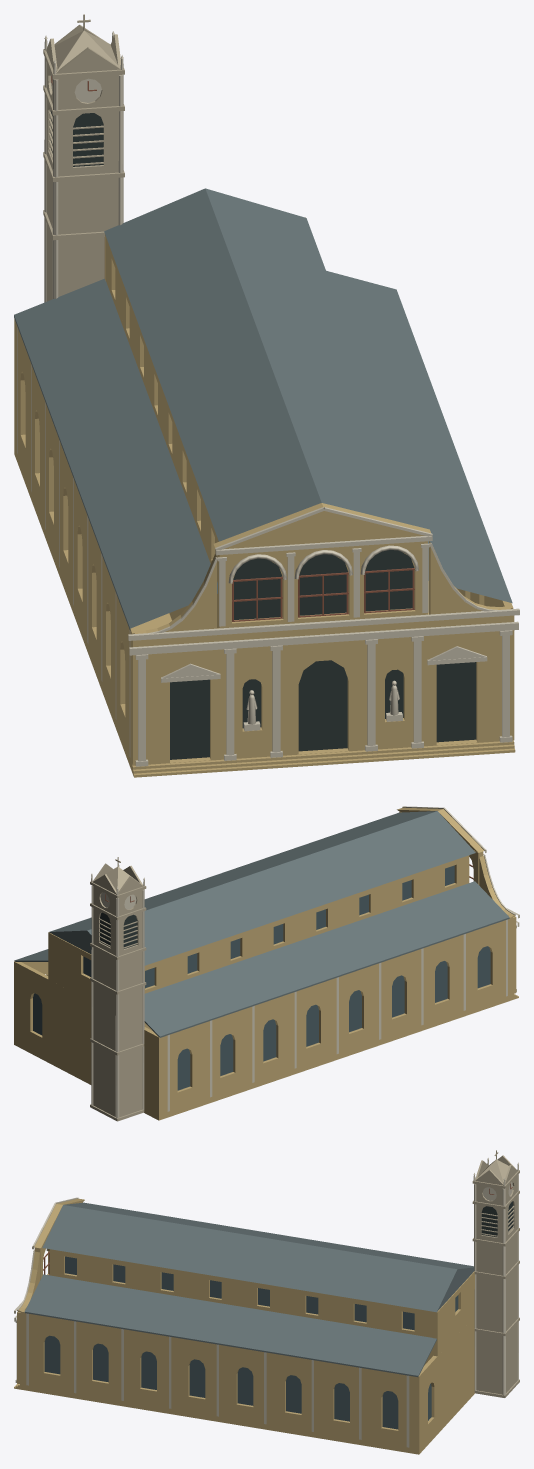
The model's file is eglise-saint-pierre-saint-paul-pointe-a-pitre-far.glb.
3 renders of one model, top to bottom at view 1: azimuth 30°, elevation 25°; view 2: azimuth 150°, elevation 25°; view 3: azimuth 270°, elevation 25°, orthographic. The views are drawn at different scales.
Visible parts, largest first — view 1: eglise-saint-pierre-saint-paul-pointe-a-pitre-0-roof, eglise-saint-pierre-saint-paul-pointe-a-pitre-0-plaster, eglise-saint-pierre-saint-paul-pointe-a-pitre-0-trim, eglise-saint-pierre-saint-paul-pointe-a-pitre-0-shadow, eglise-saint-pierre-saint-paul-pointe-a-pitre-0-metal, eglise-saint-pierre-saint-paul-pointe-a-pitre-0-wood; view 2: eglise-saint-pierre-saint-paul-pointe-a-pitre-0-plaster, eglise-saint-pierre-saint-paul-pointe-a-pitre-0-roof, eglise-saint-pierre-saint-paul-pointe-a-pitre-0-metal, eglise-saint-pierre-saint-paul-pointe-a-pitre-0-glass, eglise-saint-pierre-saint-paul-pointe-a-pitre-0-trim, eglise-saint-pierre-saint-paul-pointe-a-pitre-0-shadow; view 3: eglise-saint-pierre-saint-paul-pointe-a-pitre-0-plaster, eglise-saint-pierre-saint-paul-pointe-a-pitre-0-roof, eglise-saint-pierre-saint-paul-pointe-a-pitre-0-metal, eglise-saint-pierre-saint-paul-pointe-a-pitre-0-glass, eglise-saint-pierre-saint-paul-pointe-a-pitre-0-trim, eglise-saint-pierre-saint-paul-pointe-a-pitre-0-shadow.
Boxes of the visible parts, left/top/right/bottom form: eglise-saint-pierre-saint-paul-pointe-a-pitre-0-roof: left=14, top=188, right=512, bottom=630; eglise-saint-pierre-saint-paul-pointe-a-pitre-0-plaster: left=14, top=217, right=515, bottom=777; eglise-saint-pierre-saint-paul-pointe-a-pitre-0-trim: left=17, top=31, right=519, bottom=766; eglise-saint-pierre-saint-paul-pointe-a-pitre-0-shadow: left=50, top=110, right=476, bottom=759; eglise-saint-pierre-saint-paul-pointe-a-pitre-0-metal: left=43, top=14, right=124, bottom=301; eglise-saint-pierre-saint-paul-pointe-a-pitre-0-wood: left=51, top=75, right=414, bottom=621; eglise-saint-pierre-saint-paul-pointe-a-pitre-0-plaster: left=14, top=807, right=518, bottom=1120; eglise-saint-pierre-saint-paul-pointe-a-pitre-0-roof: left=14, top=811, right=509, bottom=1037; eglise-saint-pierre-saint-paul-pointe-a-pitre-0-metal: left=90, top=857, right=146, bottom=1121; eglise-saint-pierre-saint-paul-pointe-a-pitre-0-glass: left=33, top=865, right=490, bottom=1090; eglise-saint-pierre-saint-paul-pointe-a-pitre-0-trim: left=91, top=806, right=519, bottom=1118; eglise-saint-pierre-saint-paul-pointe-a-pitre-0-shadow: left=100, top=912, right=137, bottom=948; eglise-saint-pierre-saint-paul-pointe-a-pitre-0-plaster: left=14, top=1198, right=474, bottom=1454; eglise-saint-pierre-saint-paul-pointe-a-pitre-0-roof: left=24, top=1202, right=474, bottom=1377; eglise-saint-pierre-saint-paul-pointe-a-pitre-0-metal: left=472, top=1150, right=519, bottom=1397; eglise-saint-pierre-saint-paul-pointe-a-pitre-0-glass: left=44, top=1256, right=458, bottom=1429; eglise-saint-pierre-saint-paul-pointe-a-pitre-0-trim: left=14, top=1158, right=519, bottom=1447; eglise-saint-pierre-saint-paul-pointe-a-pitre-0-shadow: left=481, top=1201, right=513, bottom=1237.
Bounding box in the file's own units: 48.14 × 35 × 67.51.
